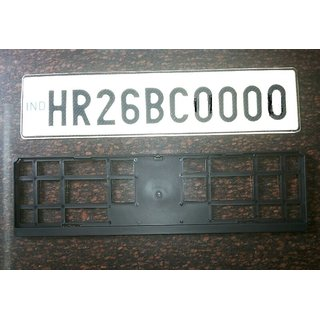licenseplate: (20, 67, 302, 133)
